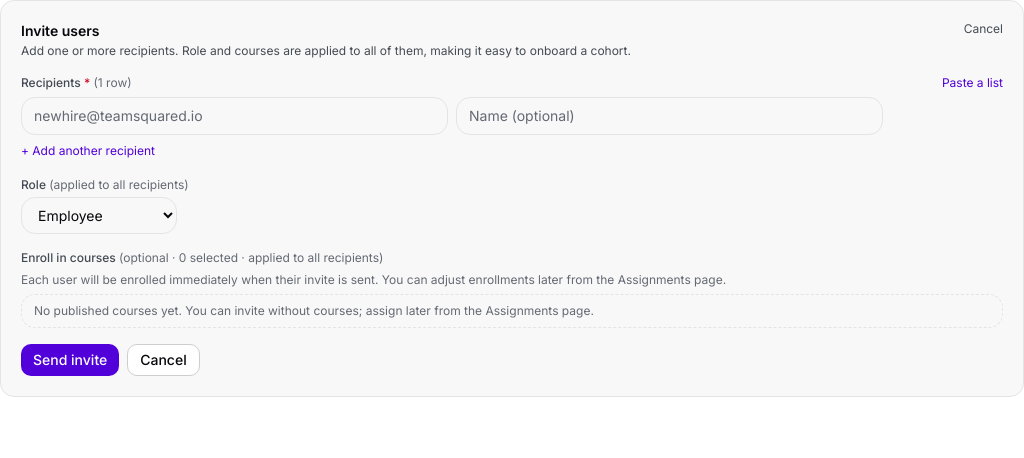
Test: InviteUserForm — UI › removes a row when its remove button is clicked (when >1 row)
The width and height of the screenshot is (1024, 458).
Click the button "+ Add another recipient": (88, 151) x1=21 y1=143 x2=155 y2=159
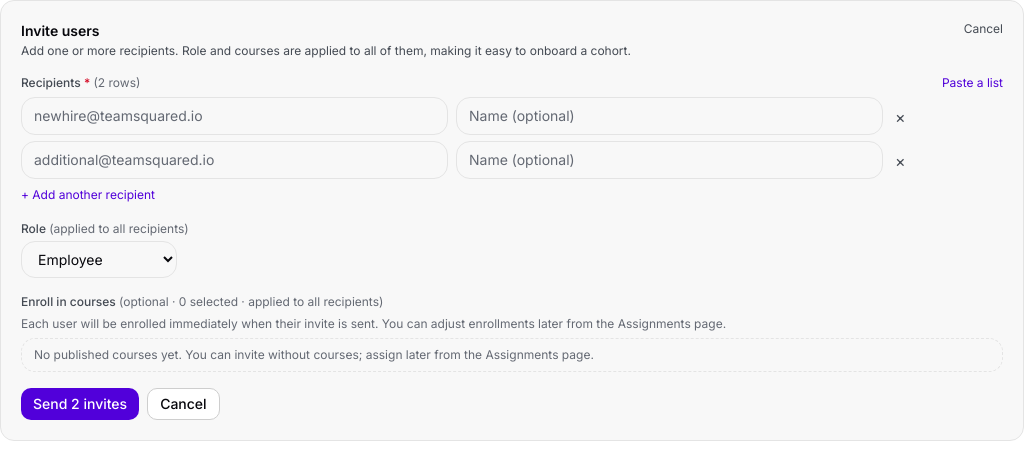
Click the button named "Remove recipient 2": (900, 161) x1=891 y1=149 x2=910 y2=173
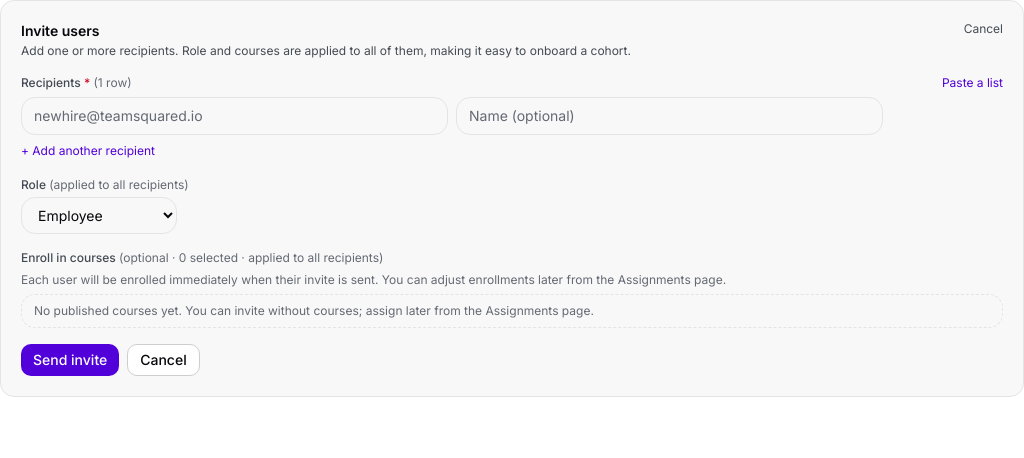
Expected: the text "(1 row)" is shown, x1=93 y1=75 x2=132 y2=90
